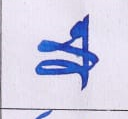e_matra: (32, 111, 53, 118)
